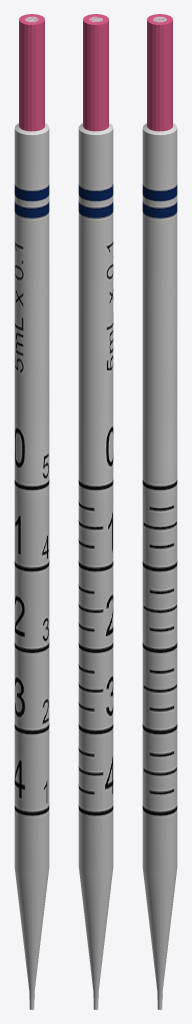
Rendered from 5mlserologicalsplit.fbx.
The picture shows the model from 3 angles, left to right: view 1: azimuth 90°, elevation 25°; view 2: azimuth 210°, elevation 25°; view 3: azimuth 270°, elevation 25°; orthographic projection.
Visible parts, largest first — view 1: serological-pipette-5-ref, serological-pipette-5-fluid-02b.001; view 2: serological-pipette-5-ref, serological-pipette-5-fluid-02b.001; view 3: serological-pipette-5-ref, serological-pipette-5-fluid-02b.001.
Boxes of the visible parts, x1,y1,x2,y2 form: serological-pipette-5-ref: [14, 16, 49, 1009]; serological-pipette-5-fluid-02b.001: [19, 14, 44, 131]; serological-pipette-5-ref: [78, 16, 113, 1009]; serological-pipette-5-fluid-02b.001: [83, 14, 108, 131]; serological-pipette-5-ref: [142, 16, 177, 1009]; serological-pipette-5-fluid-02b.001: [147, 14, 172, 131].
Size of the model in its own units: 0.00736 by 0.232 by 0.00736.
